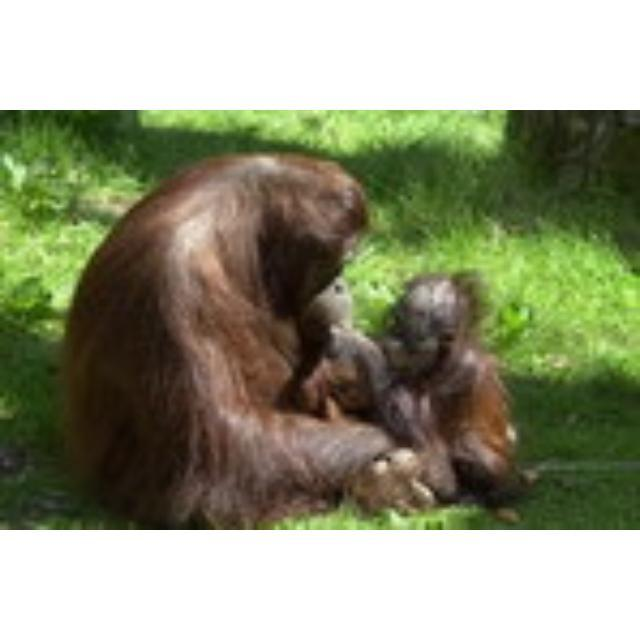Orangutan: (70, 153, 382, 518)
